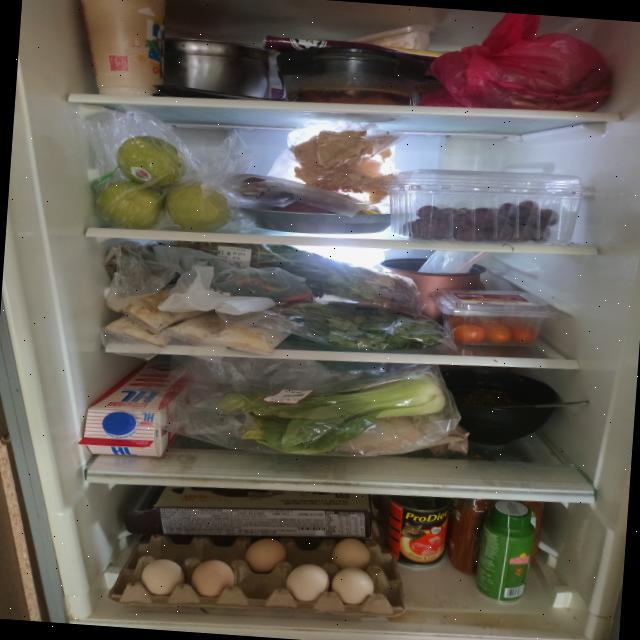apple: (94, 133, 236, 235)
egg: (108, 520, 410, 624)
grape: (402, 191, 562, 248)
leafy_greens: (195, 238, 419, 306), (280, 298, 450, 357)
pakchoy: (212, 357, 448, 465)
tempeh: (103, 281, 294, 357)
unknown_bag: (417, 6, 615, 120)
